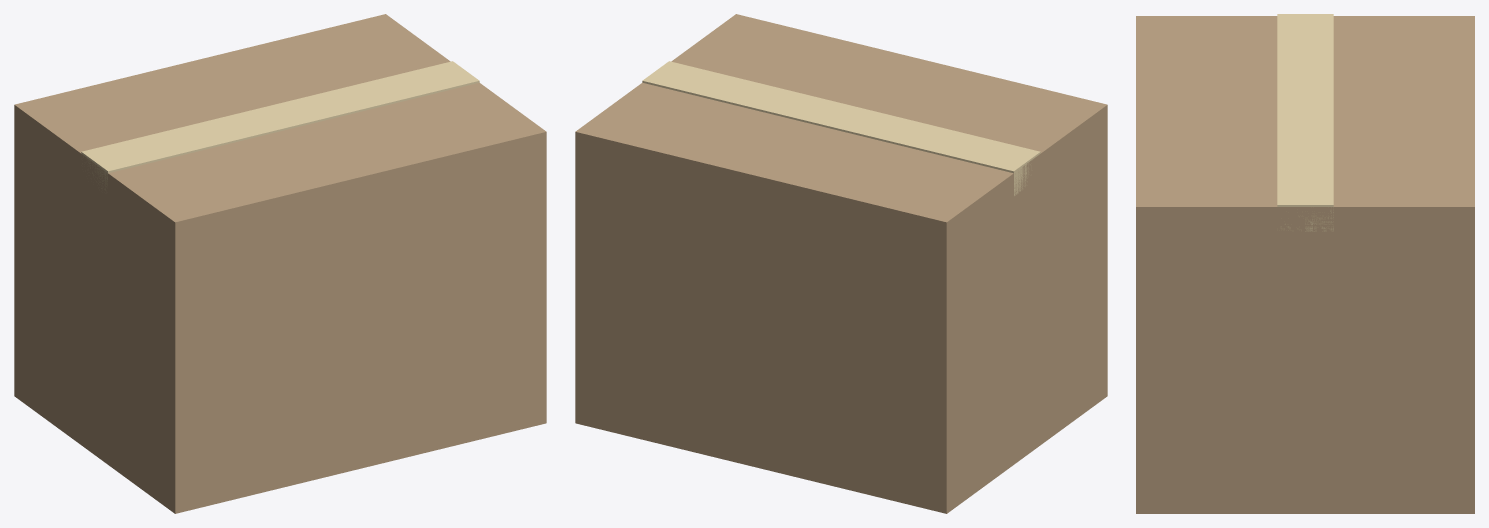
Rendered from Cardboard.glb.
3 views of the same model, side by side, from view 1: azimuth 30°, elevation 25°; view 2: azimuth 150°, elevation 25°; view 3: azimuth 270°, elevation 25° (orthographic). The views are drawn at different scales.
Parts seen in each view (by area): view 1: CardboardBox, TapeMain; view 2: CardboardBox, TapeMain; view 3: CardboardBox, TapeMain.
Part boxes in pixels (x1,y1,x2,y2): CardboardBox: [14, 14, 546, 513]; TapeMain: [81, 61, 479, 173]; CardboardBox: [575, 14, 1107, 513]; TapeMain: [642, 61, 1040, 173]; CardboardBox: [1136, 16, 1474, 513]; TapeMain: [1277, 14, 1333, 206].
Bounding box in the file's own units: 0.4 × 0.302 × 0.3.
